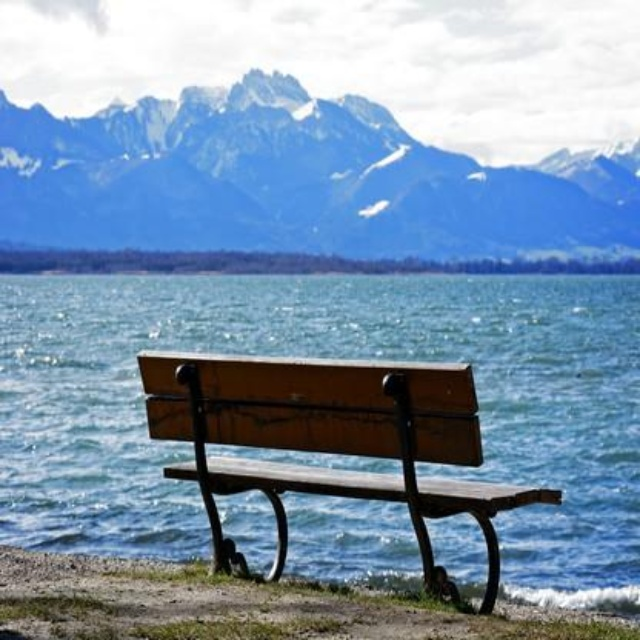obstacle: (135, 352, 575, 600)
